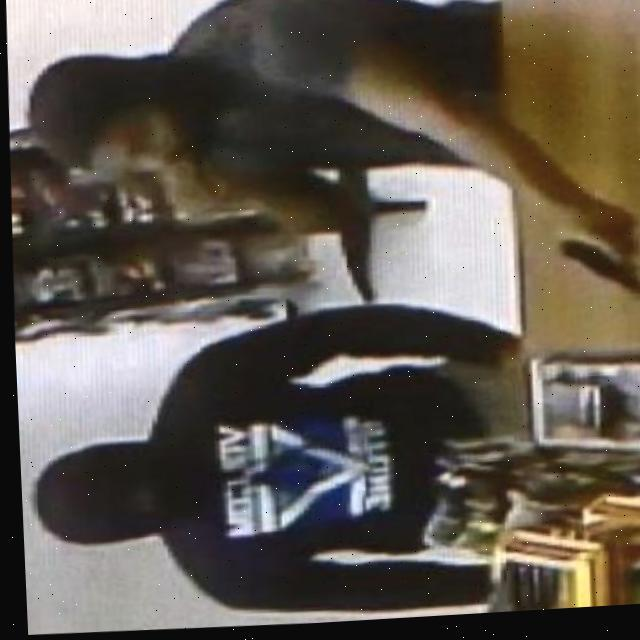gun: (538, 228, 640, 310)
